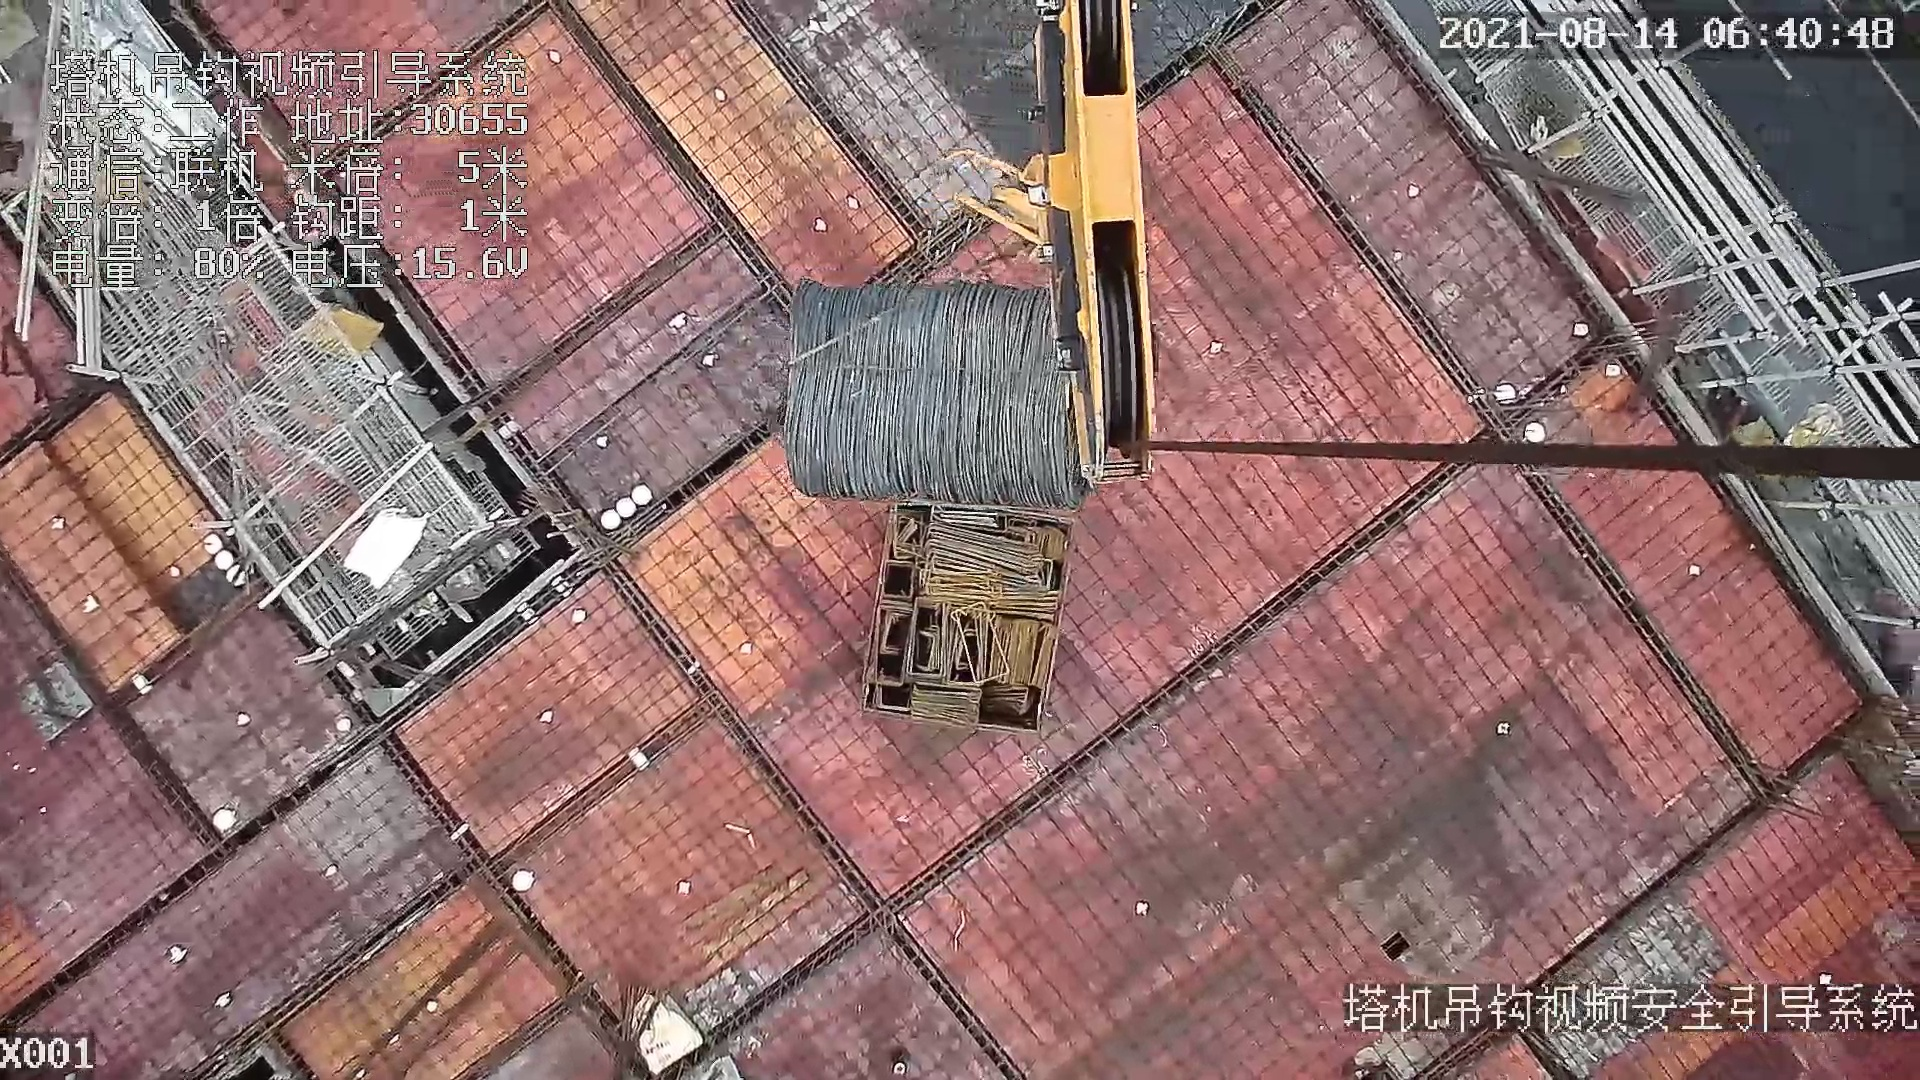hook: (940, 1, 1164, 483)
